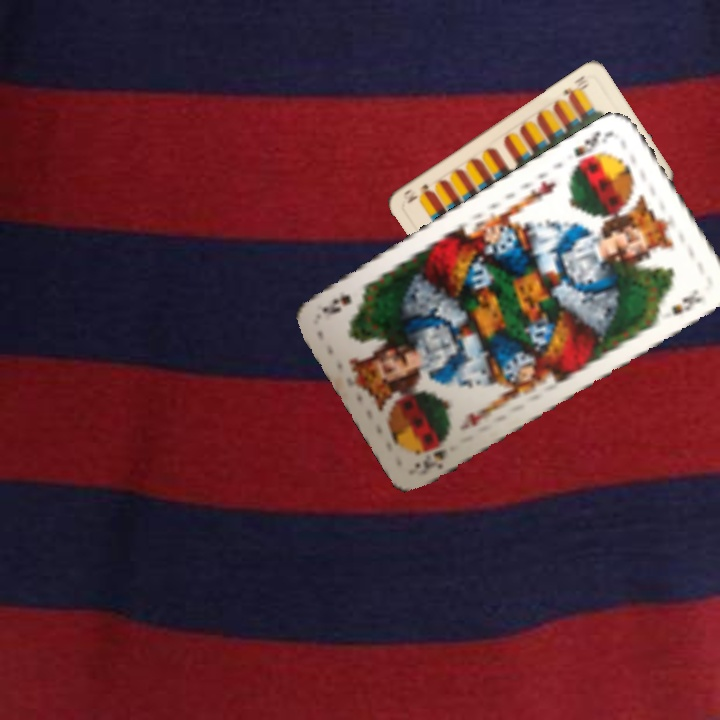E10: (558, 72, 592, 102)
SK: (569, 126, 616, 173), (410, 444, 449, 476)
